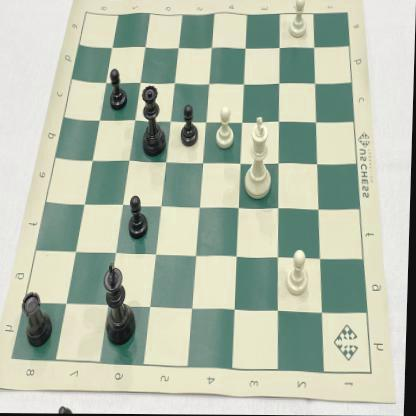black-king: (102, 259, 142, 352)
black-pawn: (126, 190, 155, 245), (106, 64, 132, 116), (178, 102, 202, 152)
black-queen: (139, 82, 172, 163)
black-rook: (21, 287, 60, 352)
white-king: (241, 115, 279, 202)
white-pawn: (284, 245, 316, 298), (214, 102, 240, 152), (284, 0, 314, 41)
